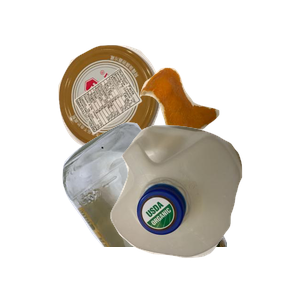glass: (60, 120, 300, 300)
metal: (56, 43, 211, 187)
plastic: (108, 123, 300, 300)
trash: (137, 65, 300, 188)
